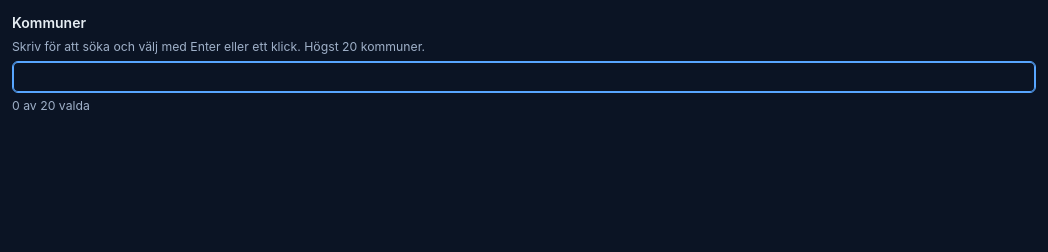
Test case: MunicipalityPicker › clears the text and keeps the list open after a pick by click
The width and height of the screenshot is (1048, 252).
Type "Malm" into the dropdown at (524, 77), box [12,61,1036,93]
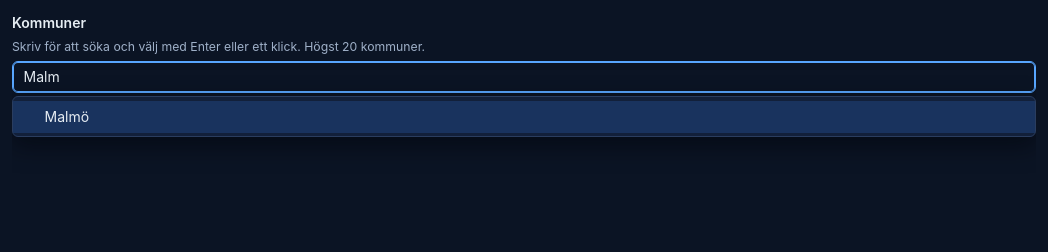
Click the option "Malmö" at (67, 117), box [13,100,1035,133]
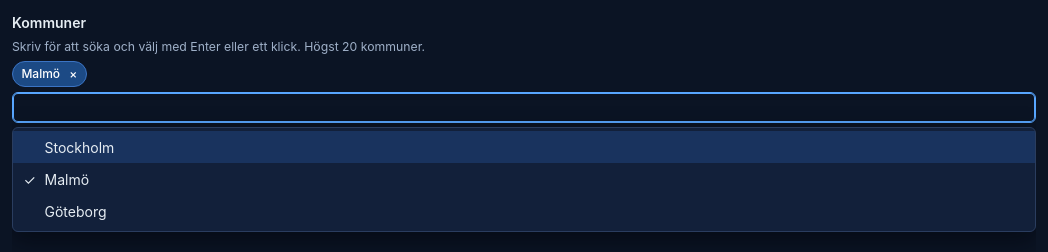
Expected: the dropdown is empty, [12,92,1036,123]
Expected: the number of options is 3, [13,131,1035,163]; [24,171,89,188]; [44,203,106,220]
Expected: the list named "Valda kommuner" shows "Malmö", [21,66,60,81]
